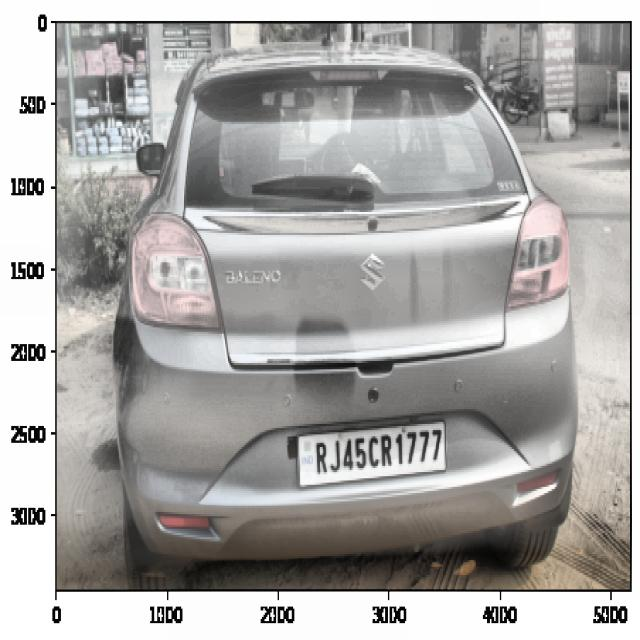license_plate: (307, 424, 448, 479)
